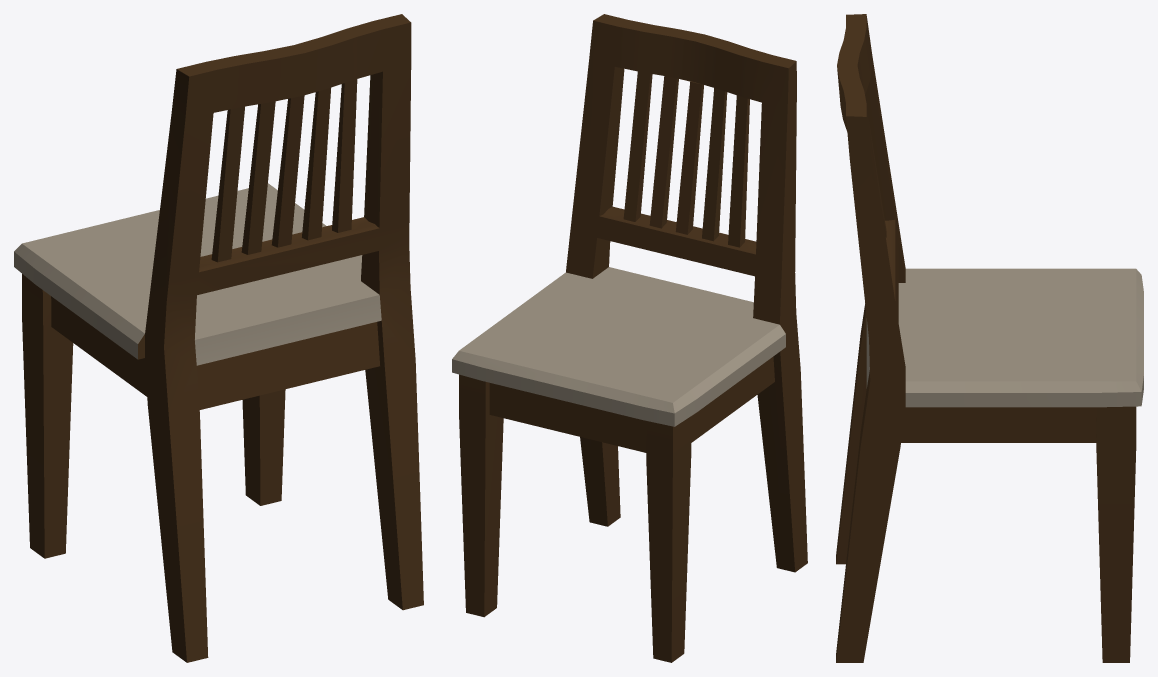
The model's file is Chair1.glb.
3 views of the same model, side by side, from view 1: azimuth 30°, elevation 25°; view 2: azimuth 150°, elevation 25°; view 3: azimuth 270°, elevation 25° (orthographic). The views are drawn at different scales.
Parts seen in each view (by area): view 1: Cube; view 2: Cube; view 3: Cube.
Part boxes in pixels (x1,y1,x2,y2): Cube: (14, 14, 423, 662); Cube: (452, 14, 807, 662); Cube: (836, 14, 1143, 662).
Bounding box in the file's own units: 0.4228 × 0.9 × 0.462.
